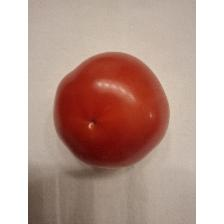Tomate: (52, 48, 172, 170)
